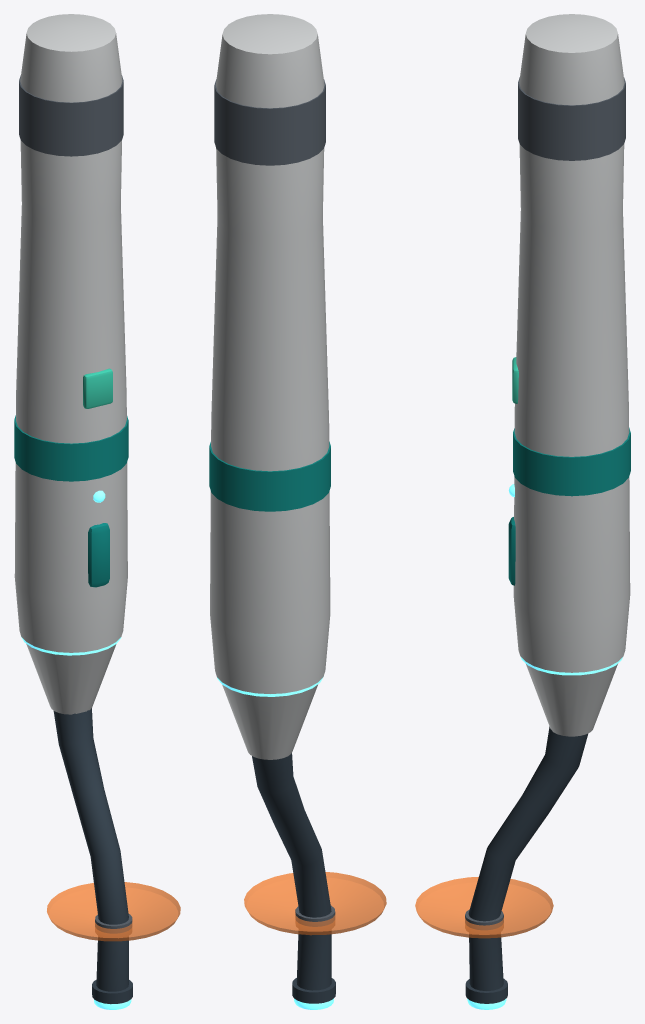
Rendered from tool_uvlamp.glb.
The picture shows the model from 3 angles, left to right: view 1: azimuth 30°, elevation 25°; view 2: azimuth 150°, elevation 25°; view 3: azimuth 270°, elevation 25°; orthographic projection. The views are drawn at different scales.
Visible parts, largest first — view 1: tool_uvlamp; view 2: tool_uvlamp; view 3: tool_uvlamp.
Part boxes in pixels (x1,y1,x2,y2): tool_uvlamp: (14, 14, 180, 1009); tool_uvlamp: (209, 14, 386, 1009); tool_uvlamp: (415, 14, 630, 1009).
Size of the model in its own units: 1.14 by 8.85 by 1.78.
